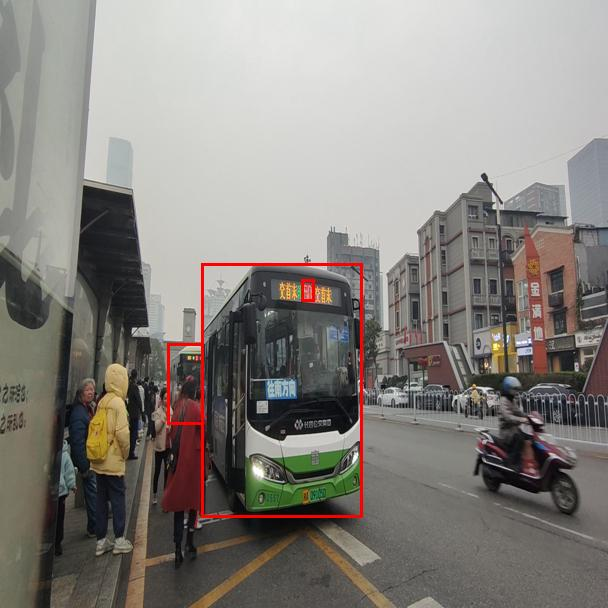bus: (201, 263, 362, 517), (167, 343, 203, 424)
screen: (301, 279, 314, 301)
